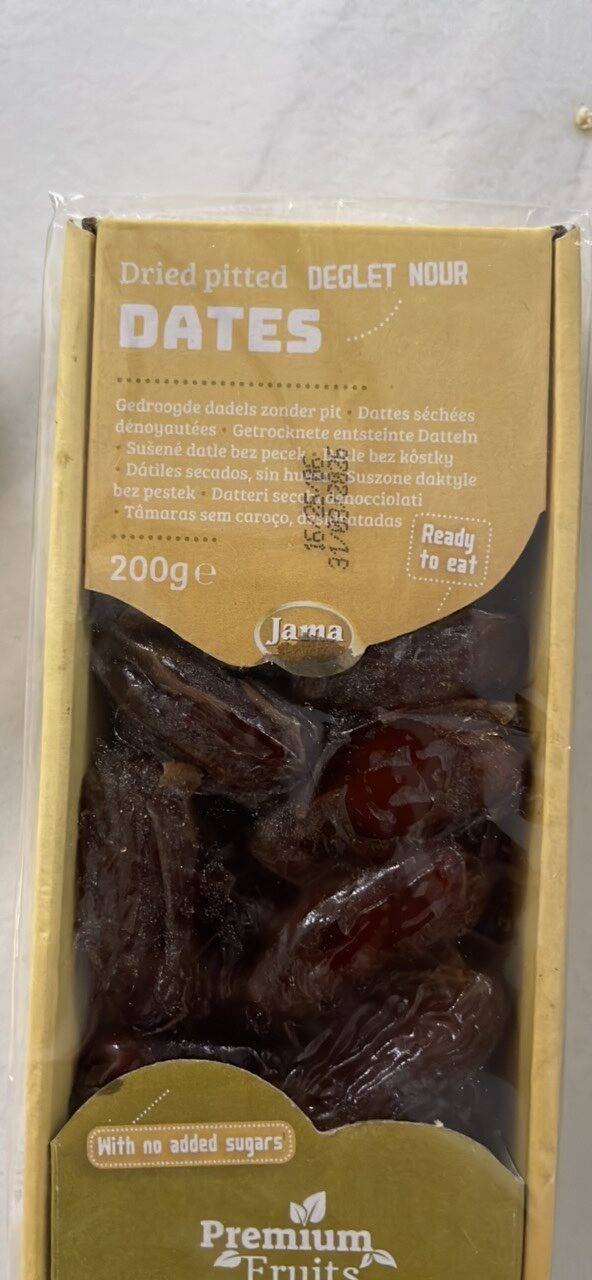Dried pitted Deglet Nour Dates: (30, 64, 562, 1216)
